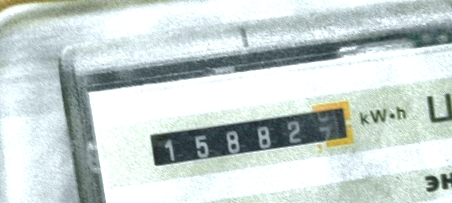1: (161, 138, 177, 165)
2: (284, 120, 303, 147)
5: (192, 134, 209, 162)
7: (316, 125, 333, 144)
8: (223, 130, 242, 157), (254, 125, 273, 152)
screen: (138, 96, 363, 183)
